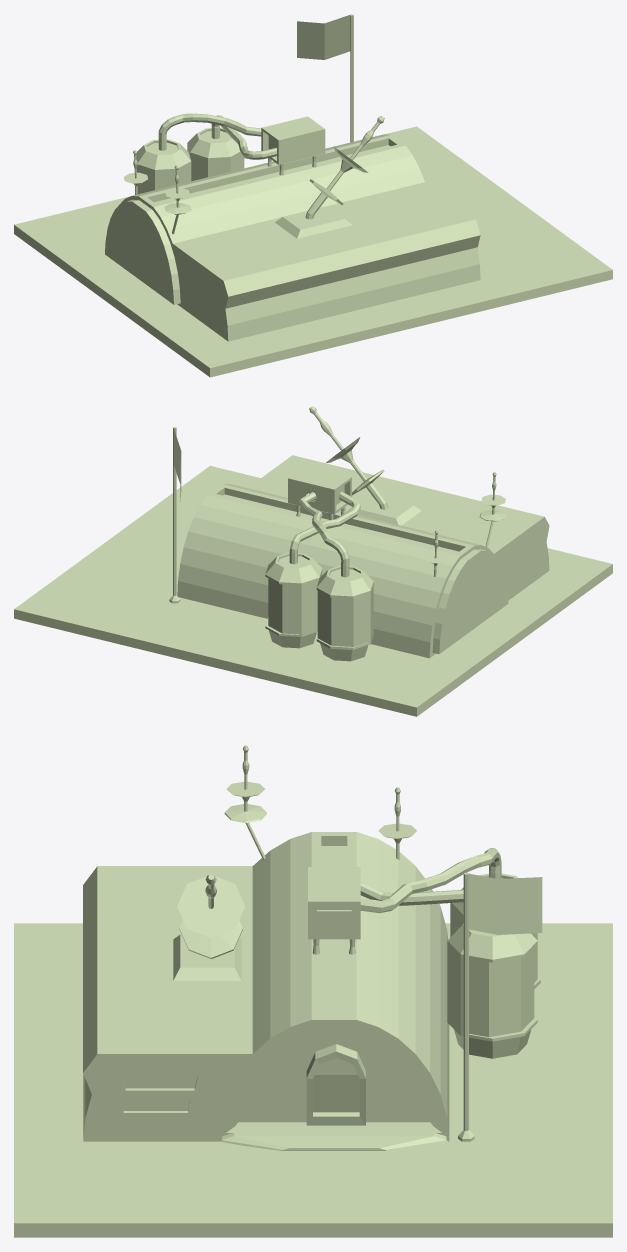
File: Astra_Outpost.fbx
3 renders of one model, top to bottom at view 1: azimuth 30°, elevation 25°; view 2: azimuth 150°, elevation 25°; view 3: azimuth 270°, elevation 25°, orthographic. The views are drawn at different scales.
Parts seen in each view (by area): view 1: StarForgerOutpost; view 2: StarForgerOutpost; view 3: StarForgerOutpost.
Part boxes in pixels (left/top/right/bottom): StarForgerOutpost: left=14, top=14, right=612, bottom=377; StarForgerOutpost: left=14, top=406, right=612, bottom=716; StarForgerOutpost: left=14, top=745, right=612, bottom=1237.
Size of the model in its own units: 1970 by 4532 by 3821.
